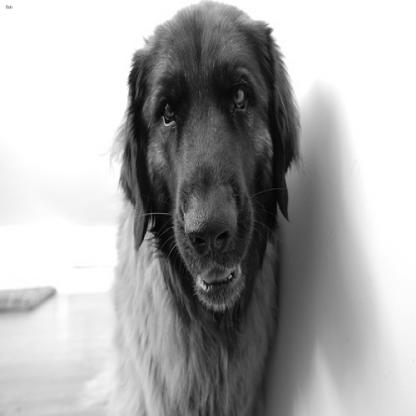Leonberger: (88, 11, 317, 390)
